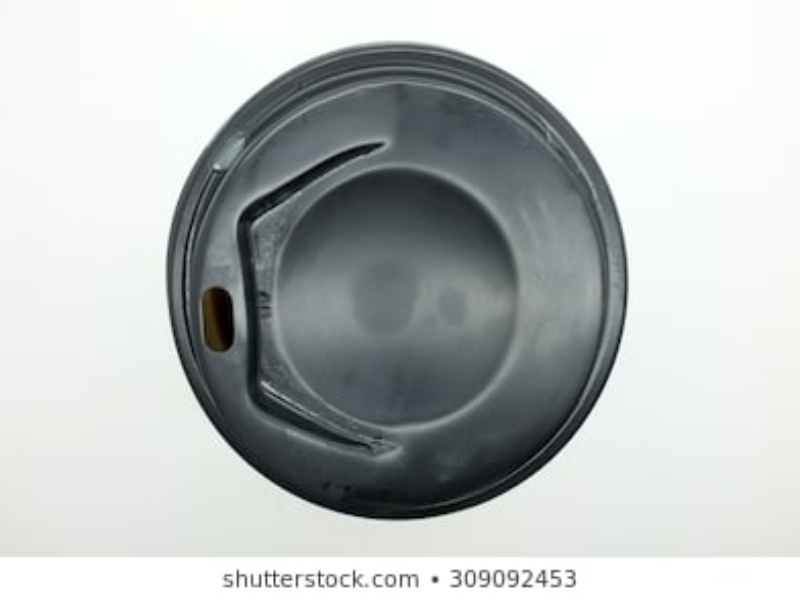coffee-lid: (163, 41, 630, 522)
